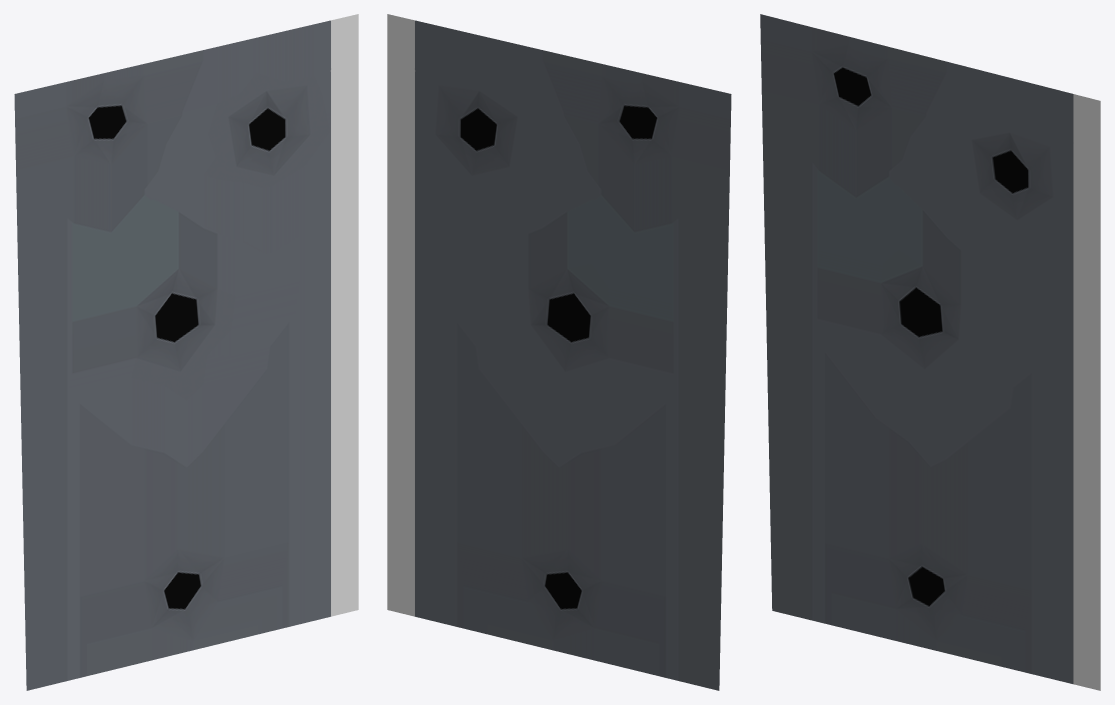
The model's file is SM_Prop_Decal_Metal_08.fbx.
3 views of the same model, side by side, from view 1: azimuth 30°, elevation 25°; view 2: azimuth 150°, elevation 25°; view 3: azimuth 330°, elevation 25° (orthographic).
Visible parts, largest first — view 1: SM_Prop_Decal_Metal_08; view 2: SM_Prop_Decal_Metal_08; view 3: SM_Prop_Decal_Metal_08.
Part boxes in pixels (<box>): SM_Prop_Decal_Metal_08: <box>14,14,358,690</box>; SM_Prop_Decal_Metal_08: <box>387,14,731,690</box>; SM_Prop_Decal_Metal_08: <box>760,14,1100,690</box>.
Size of the model in its own units: 30.93 by 51.53 by 0.
